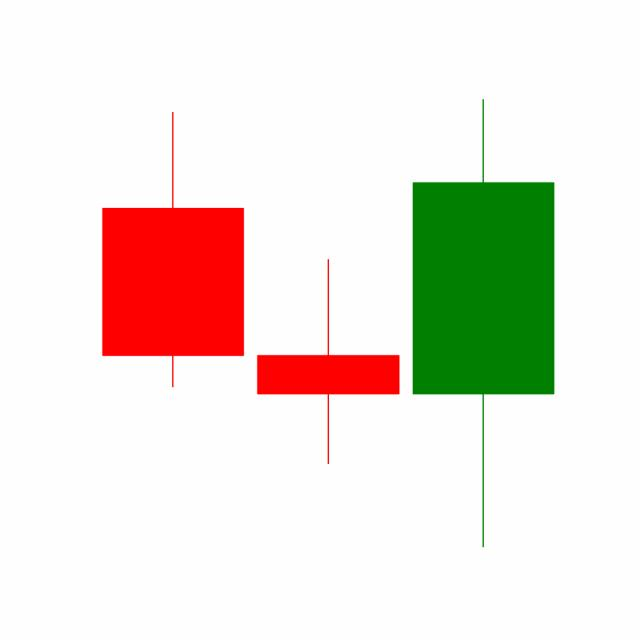Spinning Top: (249, 256, 406, 466)
